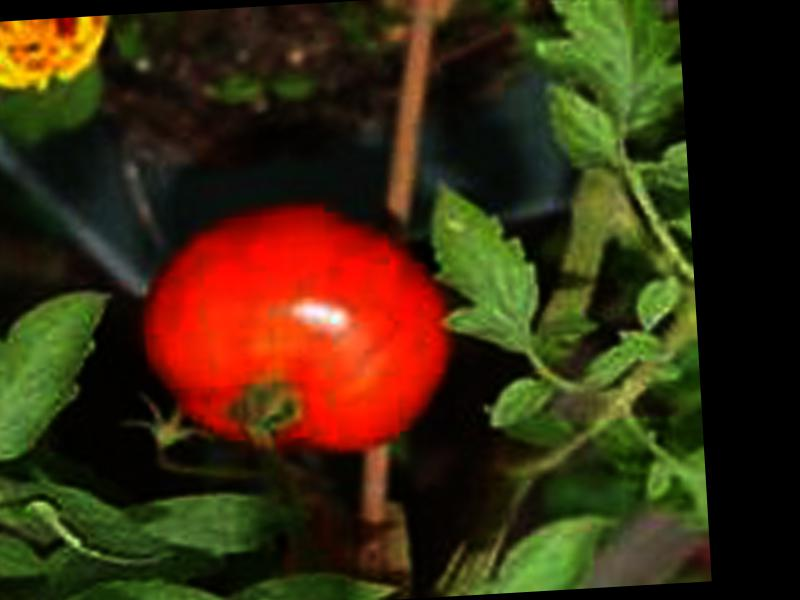Tomato: (130, 197, 463, 466)
